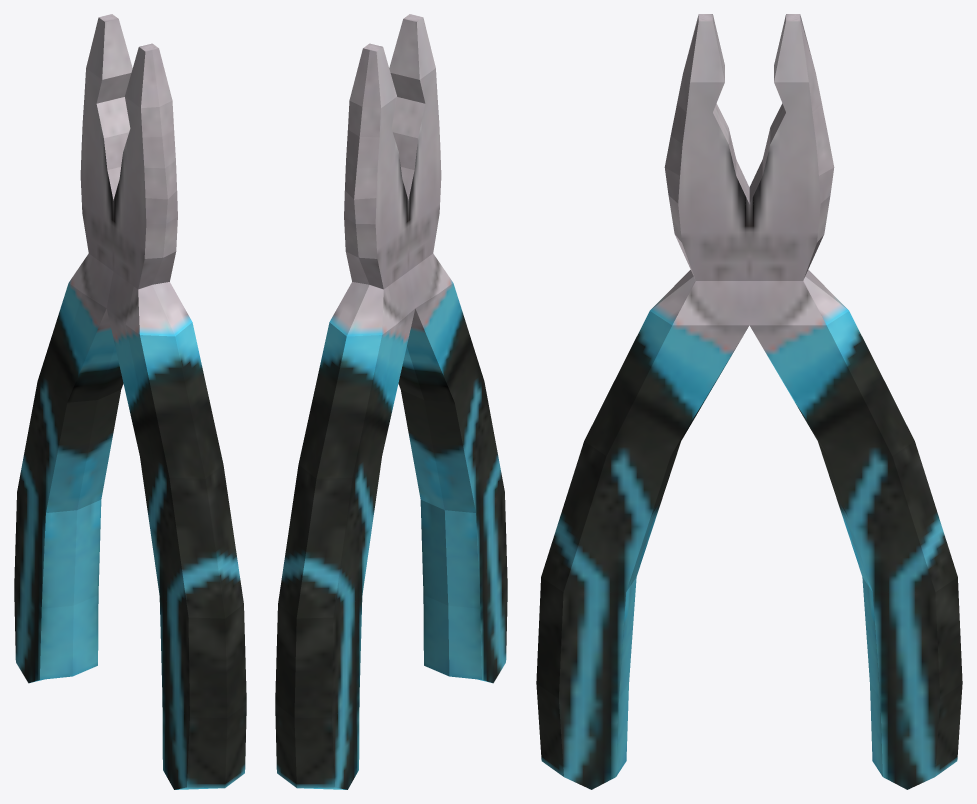
File: Pliers.fbx
3 renders of one model, left to right at view 1: azimuth 30°, elevation 25°; view 2: azimuth 150°, elevation 25°; view 3: azimuth 270°, elevation 25°, orthographic. The views are drawn at different scales.
Visible parts, largest first — view 1: Pliers; view 2: Pliers; view 3: Pliers.
Boxes of the visible parts, x1=… form: Pliers: x1=14, y1=14, x2=246, y2=789; Pliers: x1=275, y1=14, x2=507, y2=789; Pliers: x1=536, y1=14, x2=962, y2=789.
Size of the model in its own units: 227 by 2604 by 1330.
Materials: 1 (1 with a texture image).
